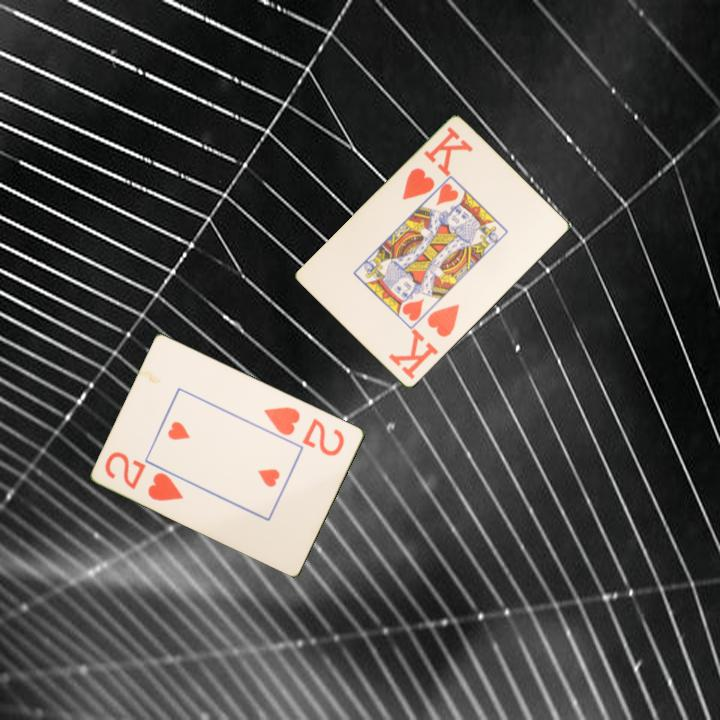2h: (260, 403, 348, 459), (101, 448, 187, 504)
Kh: (385, 301, 463, 383), (398, 124, 476, 203)
